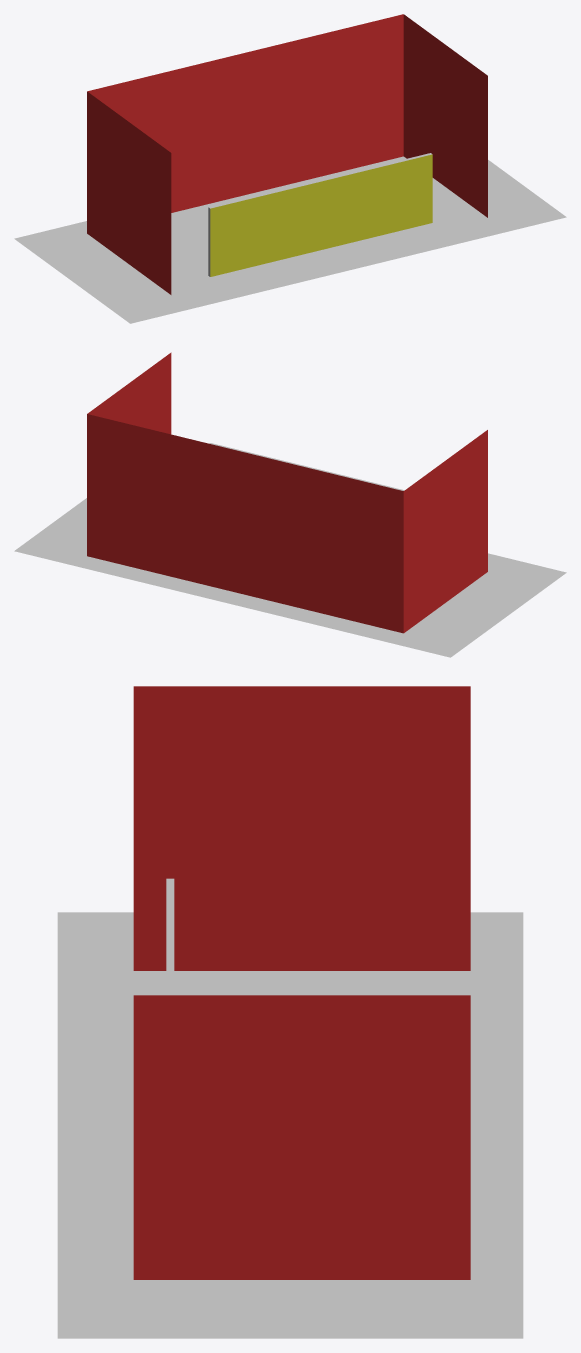
File: sunline v5.dae
3 renders of one model, top to bottom at view 1: azimuth 30°, elevation 25°; view 2: azimuth 150°, elevation 25°; view 3: azimuth 270°, elevation 25°, orthographic. The views are drawn at different scales.
Parts seen in each view (by area): view 1: p1, floor, screen, Cube; view 2: p1, floor; view 3: p1, floor, Cube.
Part boxes in pixels (bbox=[...]): p1: bbox=[87, 14, 487, 294]; floor: bbox=[14, 156, 566, 323]; screen: bbox=[210, 154, 432, 276]; Cube: bbox=[208, 153, 432, 276]; p1: bbox=[87, 352, 487, 633]; floor: bbox=[14, 498, 566, 657]; p1: bbox=[133, 686, 470, 1279]; floor: bbox=[57, 912, 523, 1338]; Cube: bbox=[166, 878, 174, 995].
Bounding box in the file's own units: 19.2 × 5.98 × 8.86.
